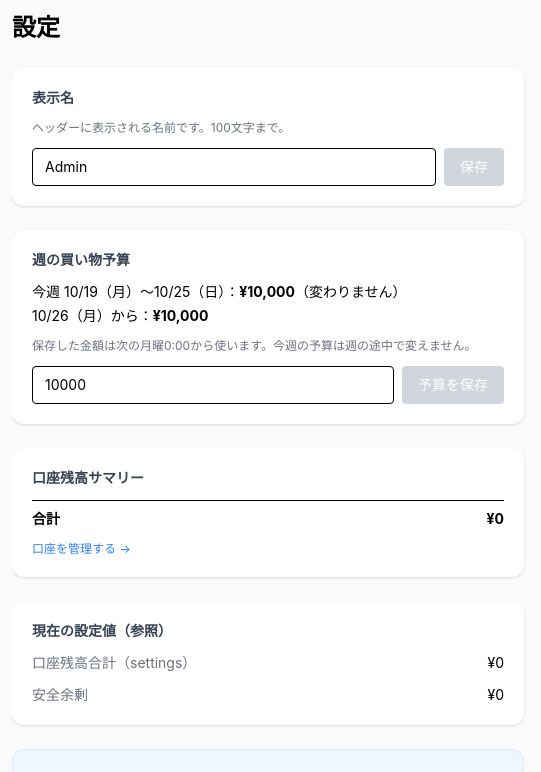
Settings の週の買い物予算 › 今週の予算はそのままで、次の月曜からの金額を保存する
The image size is (541, 772).
Expected: the button "予算を保存" is disabled, [402,366,504,404]
Step 1. Replace the text in the number field named "週の買い物予算" with "8000" → (213, 385), box [32,366,394,404]
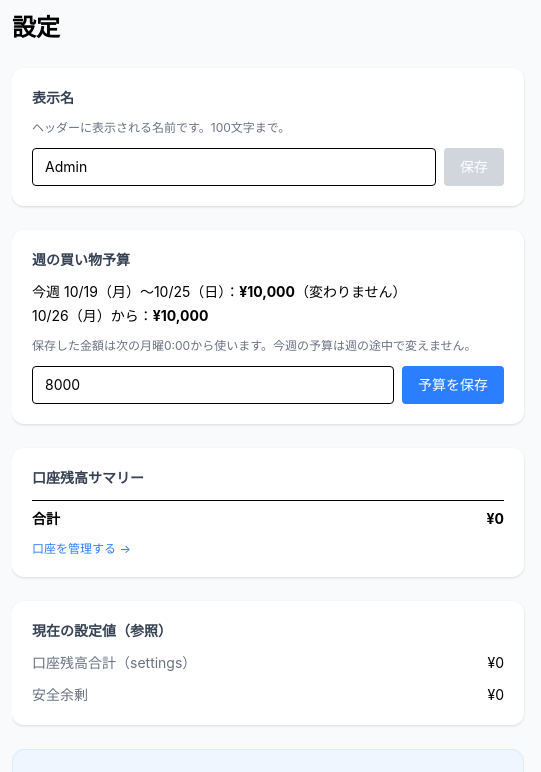
Step 2. Click the button "予算を保存" → (453, 385), box [402,366,504,404]
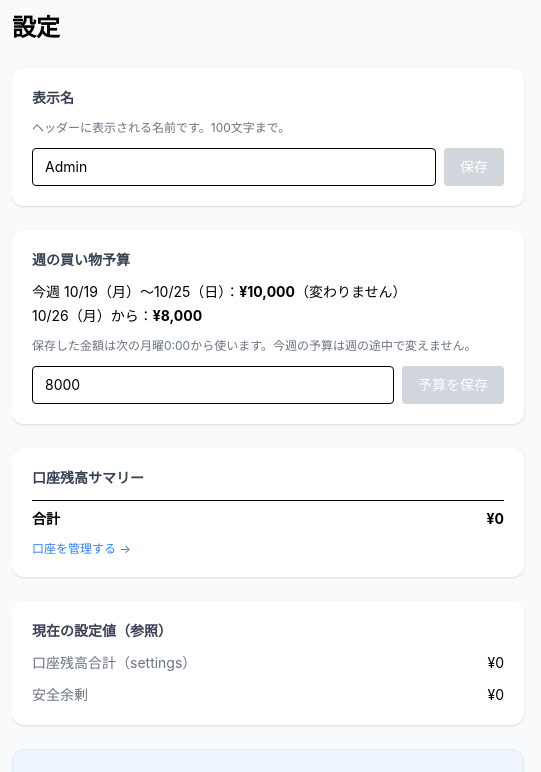
Expected: the text "10/26（月）から：¥8,000" is shown, [32,307,202,324]
Now the text "¥8,000" is shown, box [153,307,202,324]
